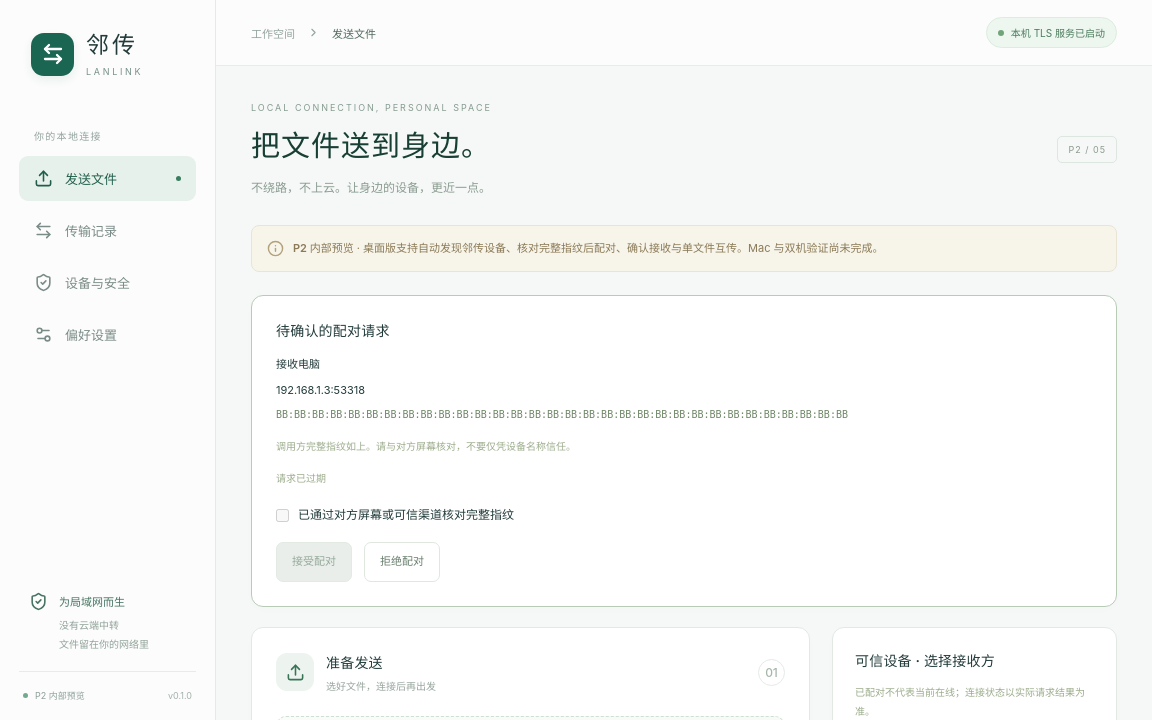
Test: P2 native pairing and transfers › disables expired approvals and reports response failures
This screenshot has width=1152, height=720.
Check: the button "接受配对" is disabled, box 276,542 -> 352,582
Step 1. Click the button "拒绝配对" → [402, 562], box 364,542 -> 440,582
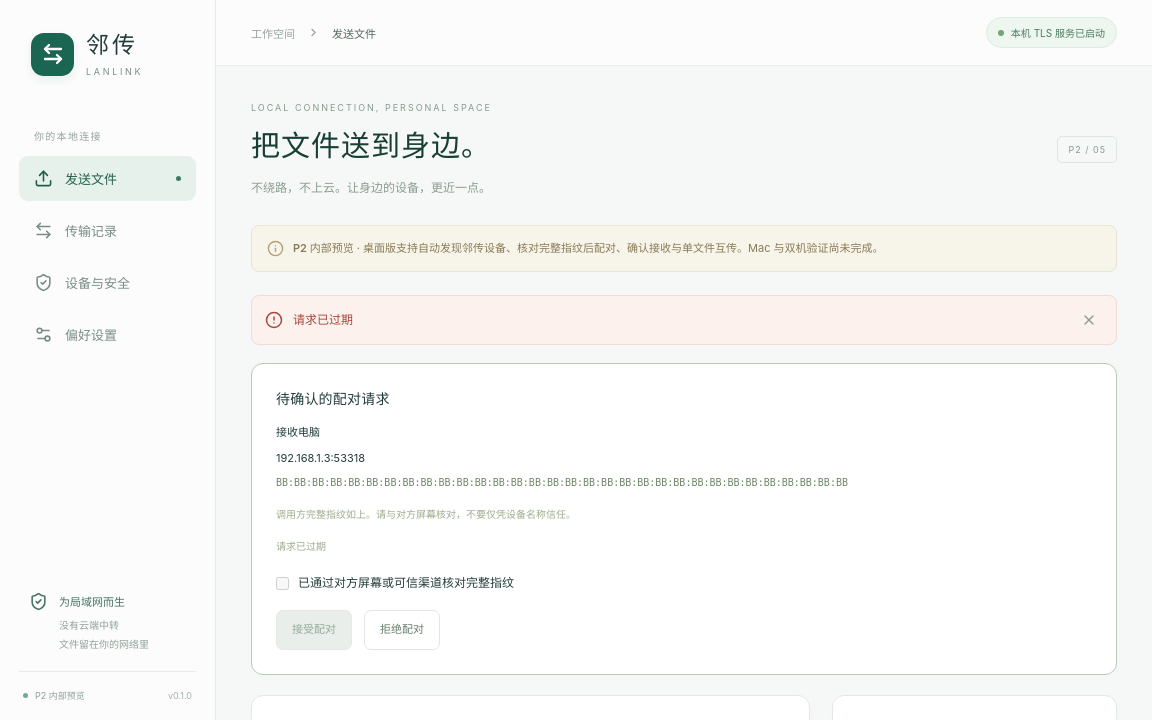
Check: the message reads "请求已过期", box 293,312 -> 353,327
